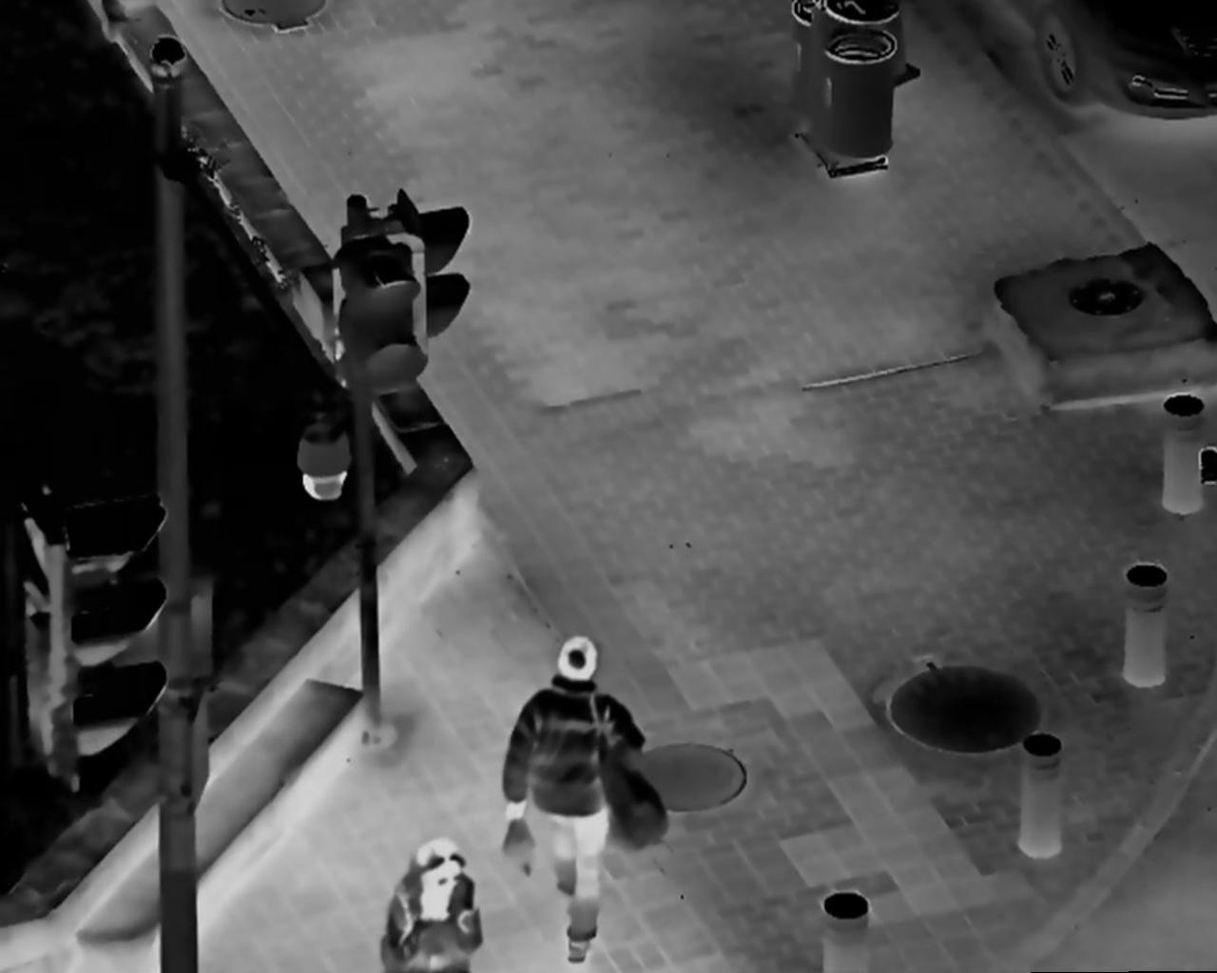person: (504, 633, 663, 973), (374, 835, 486, 973)
